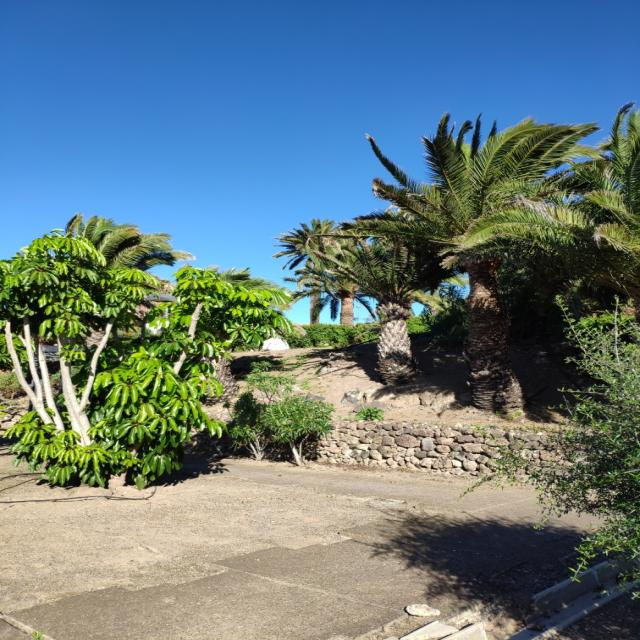Palm-Trees: (360, 110, 596, 414), (323, 224, 451, 391), (268, 219, 364, 325)
